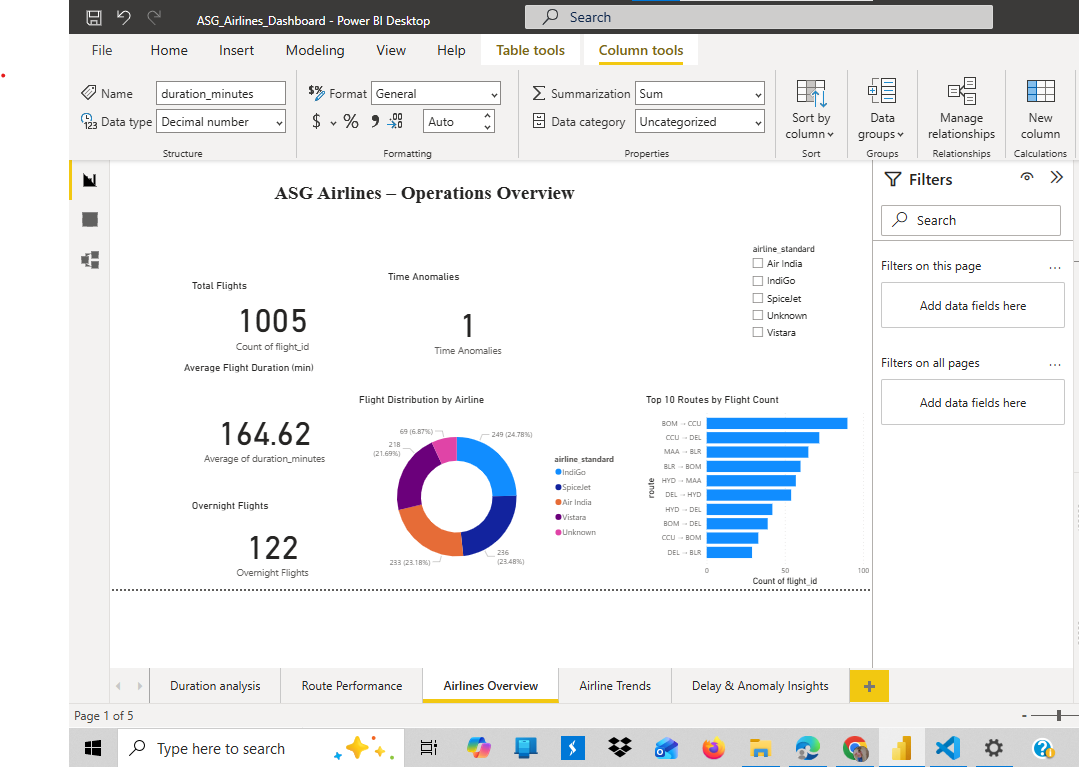

The dashboard page shown, as its layout file describes it:
{"tool":"powerbi","page":{"name":"Airlines Overview","canvas":[1280,720],"ordinal":0},"visuals":[{"type":"card","title":"Total Flights","fields":{"Values":["CountNonNull(flights_clean.flight_id)"]},"box":[132.7,199.9,280.5,129.3],"z":0},{"type":"card","title":"Average Flight Duration (min)","fields":{"Values":["Avg(flights_clean.duration_minutes)"]},"box":[119.3,337.6,280.5,231.8],"z":1000},{"type":"card","title":"Overnight Flights","fields":{"Values":["bookings_clean.Overnight Flights"]},"box":[132.7,569.4,280.5,151.2],"z":2000},{"type":"card","title":"Time Anomalies","fields":{"Values":["flights_clean.Time Anomalies"]},"box":[461.9,184.8,278.8,174.7],"z":3000},{"type":"donutChart","title":"Flight Distribution by Airline","fields":{"Category":["flights_clean.airline_standard"],"Y":["CountNonNull(flights_clean.flight_id)"]},"box":[413.2,391.4,453.5,329.2],"z":4000},{"type":"clusteredBarChart","title":"Top 10 Routes by Flight Count","fields":{"Category":["flights_clean.route"],"Y":["CountNonNull(flights_clean.flight_id)"]},"box":[895.3,391.4,384.7,329.2],"z":5000},{"type":"slicer","fields":{"Values":["flights_clean.airline_standard"]},"box":[1066.7,136.1,213.3,258.7],"z":6000},{"type":"textbox","box":[80.6,31.9,895.3,70.6],"z":7000}]}

Visuals, with their boxes on the page's 1280x720 design canvas (x1, y1, x2, y2). These are canvas units, not pixel positions in the 1079x767 screenshot, which may show the page scaled, cropped or inside an application window:
"Total Flights" card: bbox=(133, 200, 413, 329)
"Average Flight Duration (min)" card: bbox=(119, 338, 400, 569)
"Overnight Flights" card: bbox=(133, 569, 413, 721)
"Time Anomalies" card: bbox=(462, 185, 741, 360)
"Flight Distribution by Airline" donutChart: bbox=(413, 391, 867, 721)
"Top 10 Routes by Flight Count" clusteredBarChart: bbox=(895, 391, 1280, 721)
slicer - flights_clean.airline_standard: bbox=(1067, 136, 1280, 395)
textbox: bbox=(81, 32, 976, 102)
